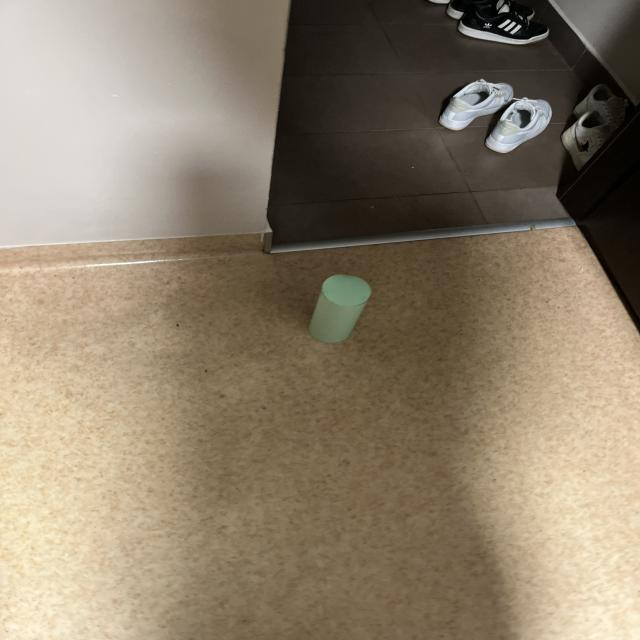meta: (309, 275, 371, 343)
